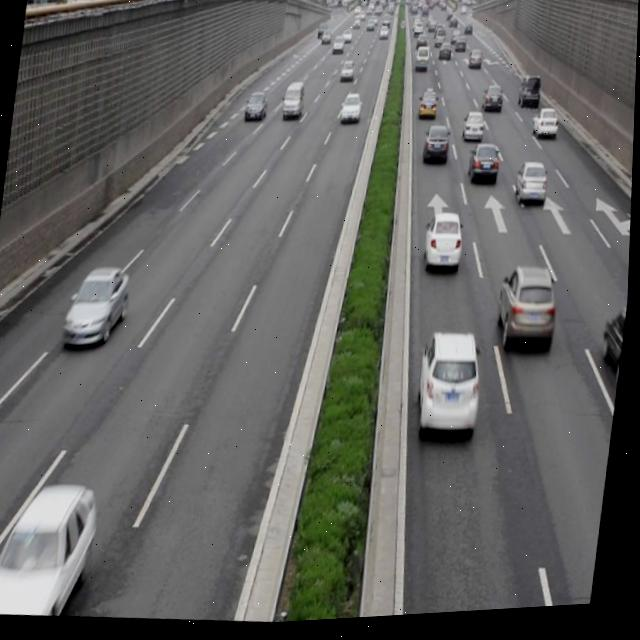car: (0, 473, 102, 622), (414, 332, 489, 445), (63, 262, 134, 351), (494, 266, 562, 358), (421, 212, 467, 274), (600, 314, 629, 394), (513, 163, 550, 211), (467, 145, 502, 191), (422, 126, 452, 170), (532, 110, 561, 146), (461, 113, 487, 150), (340, 94, 364, 128), (245, 92, 268, 124), (481, 86, 505, 116), (417, 92, 439, 124)
truck: (281, 82, 306, 123)
